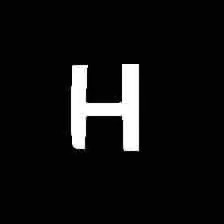LTR_H: (63, 52, 147, 157)
